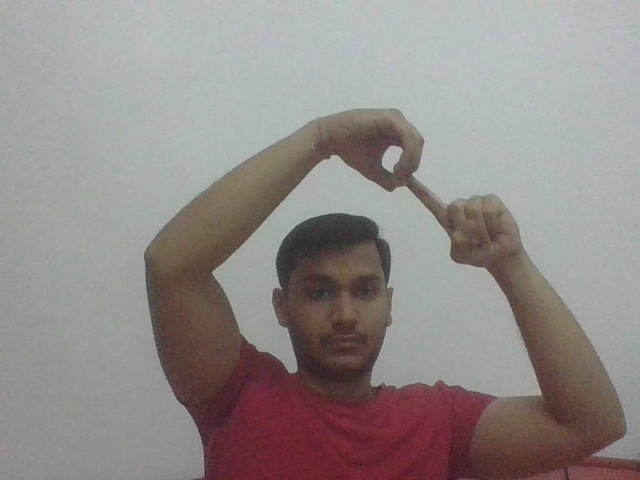Q: (347, 107, 473, 220)
